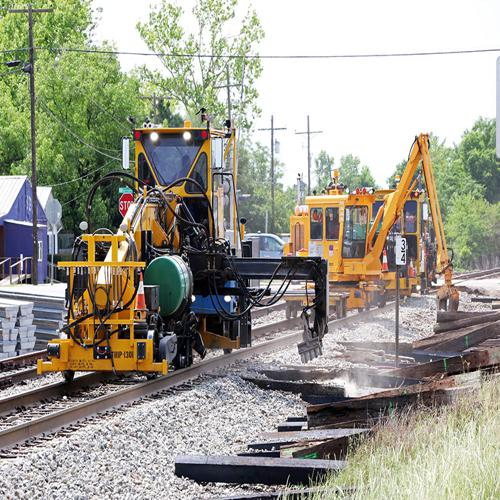con_eq: (39, 115, 330, 389), (278, 131, 467, 317)
